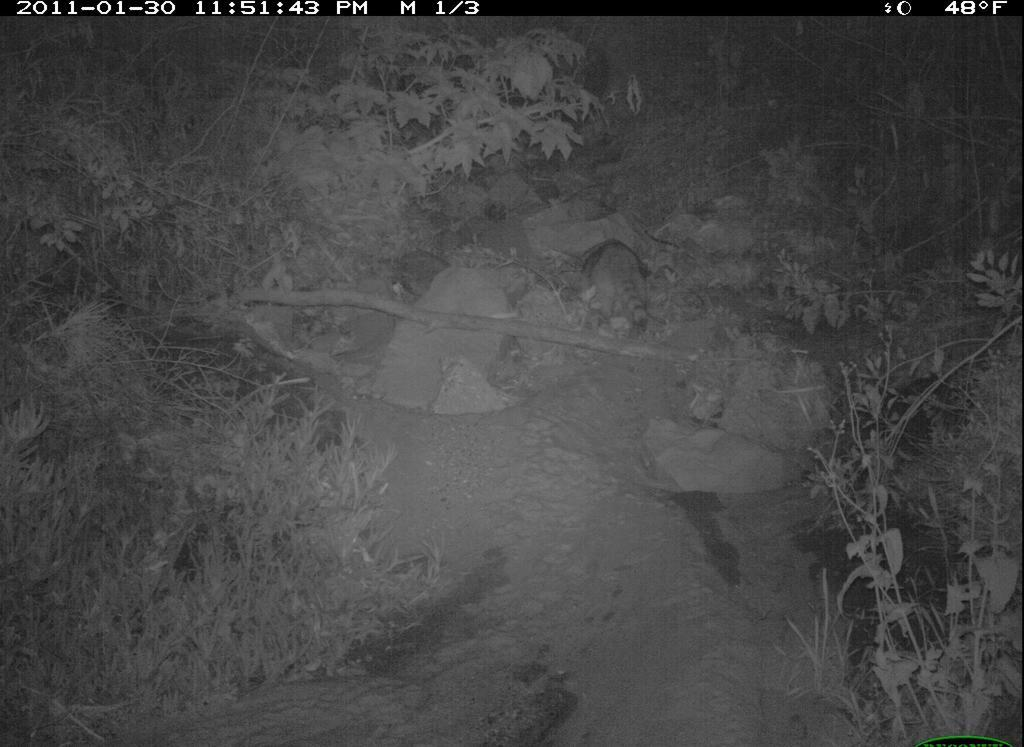raccoon: (580, 233, 671, 337)
